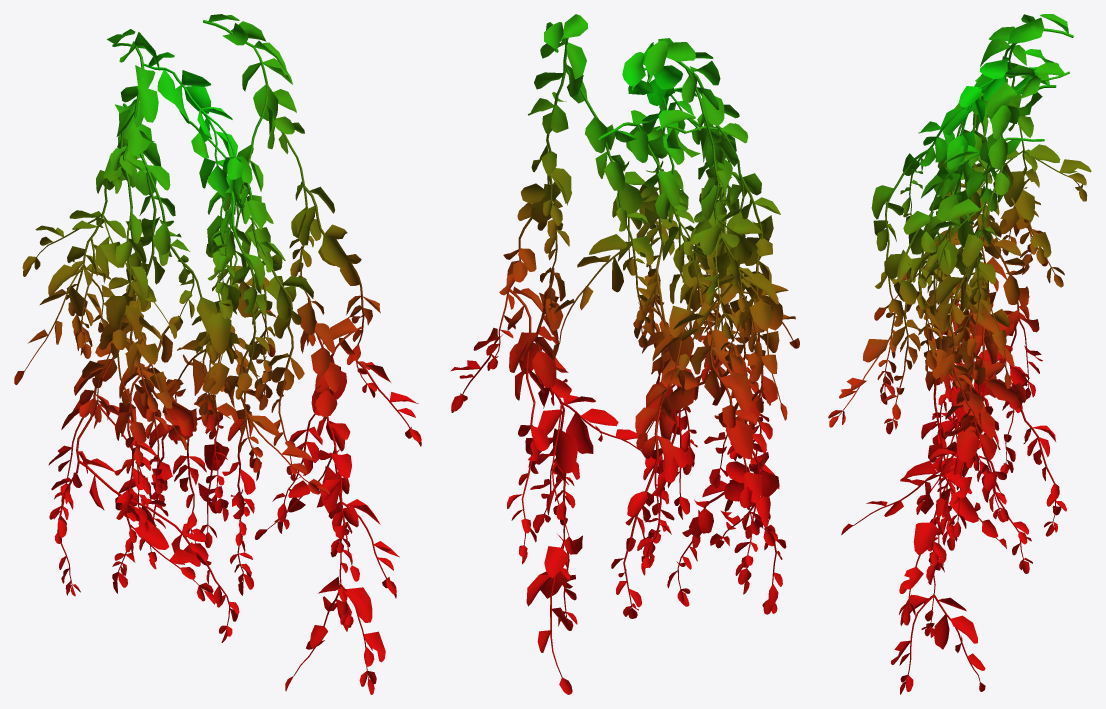
File: Var4_LOD1.fbx
3 renders of one model, left to right at view 1: azimuth 30°, elevation 25°; view 2: azimuth 150°, elevation 25°; view 3: azimuth 270°, elevation 25°, orthographic. The views are drawn at different scales.
Visible parts, largest first — view 1: _7zep_Var4_LOD1; view 2: _7zep_Var4_LOD1; view 3: _7zep_Var4_LOD1.
Boxes of the visible parts, x1,y1,x2,y2 form: _7zep_Var4_LOD1: [14, 14, 421, 694]; _7zep_Var4_LOD1: [450, 14, 799, 694]; _7zep_Var4_LOD1: [828, 14, 1091, 694].
Bounding box in the file's own units: 78.68 × 139 × 53.49.
